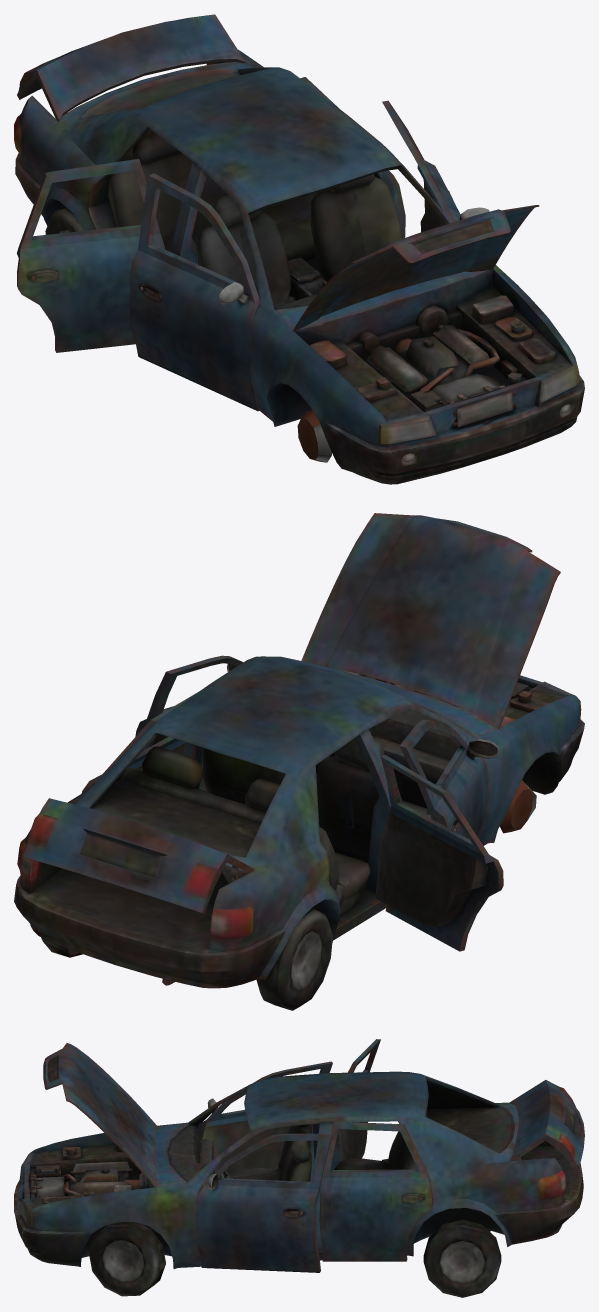
File: prop_sedanwreck.glb
3 views of the same model, one above another, from view 1: azimuth 30°, elevation 25°; view 2: azimuth 150°, elevation 25°; view 3: azimuth 270°, elevation 25° (orthographic). The views are drawn at different scales.
Parts seen in each view (by area): view 1: KUZA_0, Seats.001_6, ON QAPI_2, ARXA QAPI_3, Engine.001_8, BAQAJ_4, KAPOT_1, ON QAPI.001_12, SALON_5, TEKER.002_15, TEKER.003_11; view 2: KUZA_0, KAPOT_1, Seats.001_6, ARXA QAPI_3, BAQAJ_4, ON QAPI_2, TEKER.003_11, SALON_5, ON QAPI.001_12, TEKER.002_15, ARXA QAPI.001_13, Engine.001_8; view 3: KUZA_0, ON QAPI.001_12, ARXA QAPI.001_13, KAPOT_1, TEKER.001_14, TEKER.004_10, BAQAJ_4, ON QAPI_2, Engine.001_8, Seats.001_6, SALON_5, ARXA QAPI_3.
Boxes of the visible parts, <box> form: KUZA_0: <box>14,49,584,484</box>; Seats.001_6: <box>108,130,402,306</box>; ON QAPI_2: <box>129,173,259,411</box>; ARXA QAPI_3: <box>17,159,165,352</box>; Engine.001_8: <box>309,295,555,411</box>; BAQAJ_4: <box>17,14,245,121</box>; KAPOT_1: <box>293,205,539,331</box>; ON QAPI.001_12: <box>382,100,489,232</box>; SALON_5: <box>274,257,326,309</box>; TEKER.002_15: <box>297,410,331,462</box>; TEKER.003_11: <box>45,207,84,234</box>; KUZA_0: <box>14,656,584,988</box>; KAPOT_1: <box>301,513,560,728</box>; Seats.001_6: <box>120,737,431,915</box>; ARXA QAPI_3: <box>375,755,503,951</box>; BAQAJ_4: <box>23,798,253,913</box>; ON QAPI_2: <box>399,719,498,838</box>; TEKER.003_11: <box>256,908,332,1010</box>; SALON_5: <box>319,710,458,826</box>; ON QAPI.001_12: <box>135,655,243,791</box>; TEKER.002_15: <box>499,780,536,833</box>; ARXA QAPI.001_13: <box>81,692,197,793</box>; Engine.001_8: <box>333,668,549,727</box>; KUZA_0: <box>14,1071,583,1268</box>; ON QAPI.001_12: <box>195,1133,332,1272</box>; ARXA QAPI.001_13: <box>319,1122,432,1261</box>; KAPOT_1: <box>43,1043,157,1187</box>; TEKER.001_14: <box>423,1219,501,1297</box>; TEKER.004_10: <box>88,1221,165,1296</box>; BAQAJ_4: <box>509,1080,584,1168</box>; ON QAPI_2: <box>198,1061,332,1181</box>; Engine.001_8: <box>35,1145,148,1203</box>; Seats.001_6: <box>223,1109,427,1181</box>; SALON_5: <box>168,1124,237,1192</box>; ARXA QAPI_3: <box>330,1039,380,1169</box>.
Size of the model in its own units: 12.73 by 7.76 by 21.34.
Materials: 1 (1 with a texture image).
